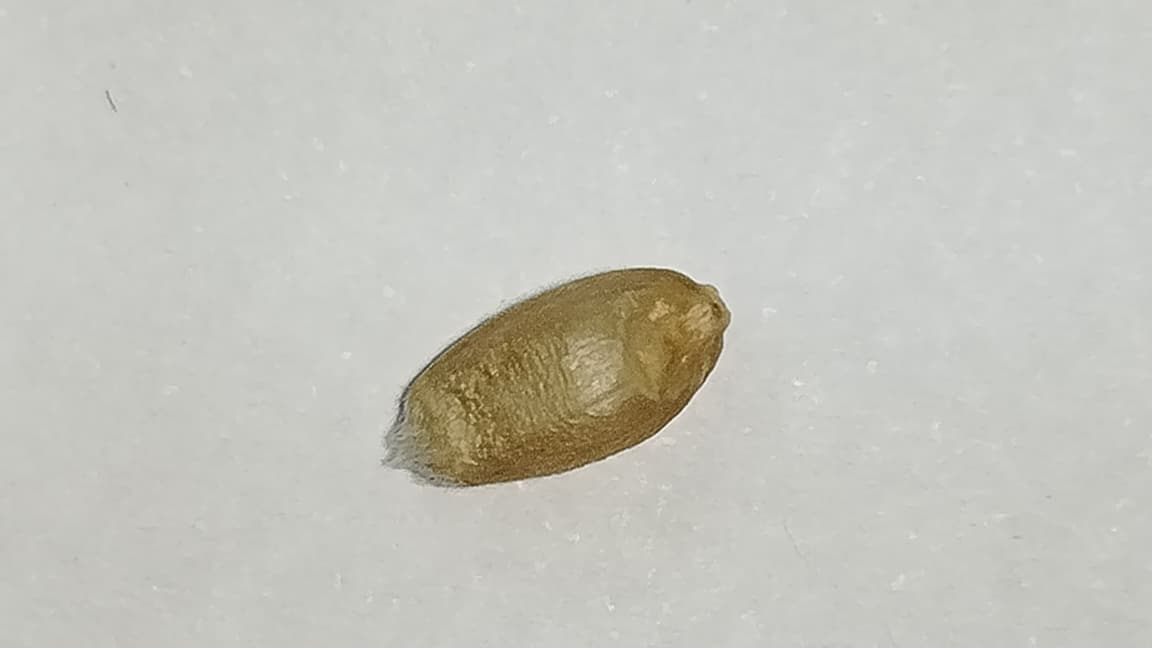healthy: (386, 268, 730, 485)
